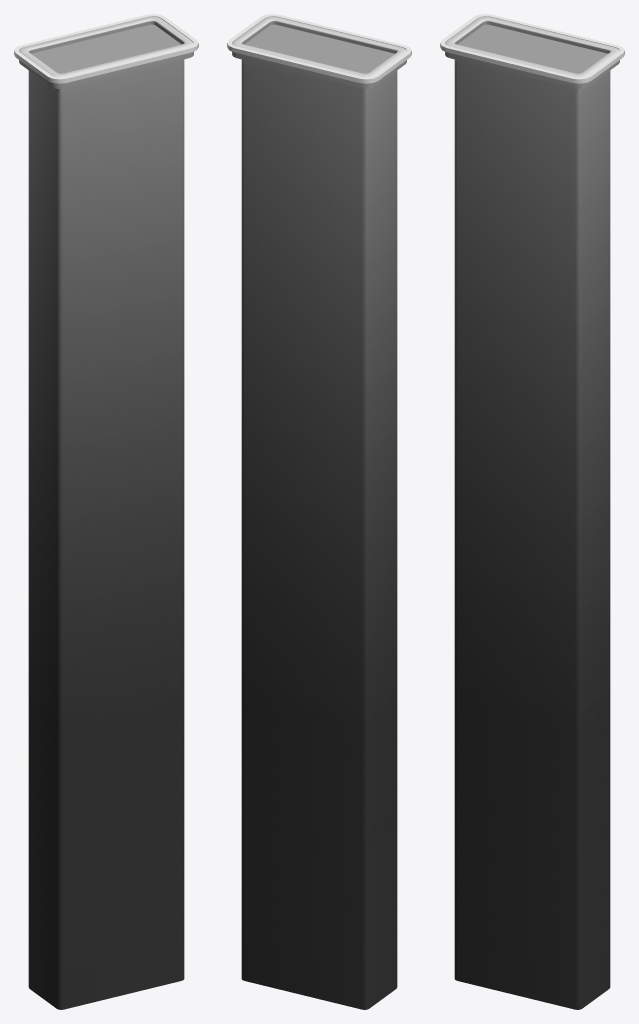
The model's file is BLOCK_3D_2.fbx.
3 renders of one model, left to right at view 1: azimuth 30°, elevation 25°; view 2: azimuth 150°, elevation 25°; view 3: azimuth 330°, elevation 25°, orthographic.
Parts seen in each view (by area): view 1: 2, SOLID_2, OUTLINE; view 2: 2, SOLID_2, OUTLINE; view 3: 2, SOLID_2, OUTLINE.
Part boxes in pixels (<box>): 2: <box>19,16,193,1009</box>; SOLID_2: <box>29,24,184,92</box>; OUTLINE: <box>14,14,198,83</box>; 2: <box>232,16,406,1009</box>; SOLID_2: <box>241,24,396,92</box>; OUTLINE: <box>227,14,411,83</box>; 2: <box>445,16,619,1009</box>; SOLID_2: <box>454,24,609,92</box>; OUTLINE: <box>440,14,624,83</box>.
Size of the model in its own units: 212 by 1270 by 112.
